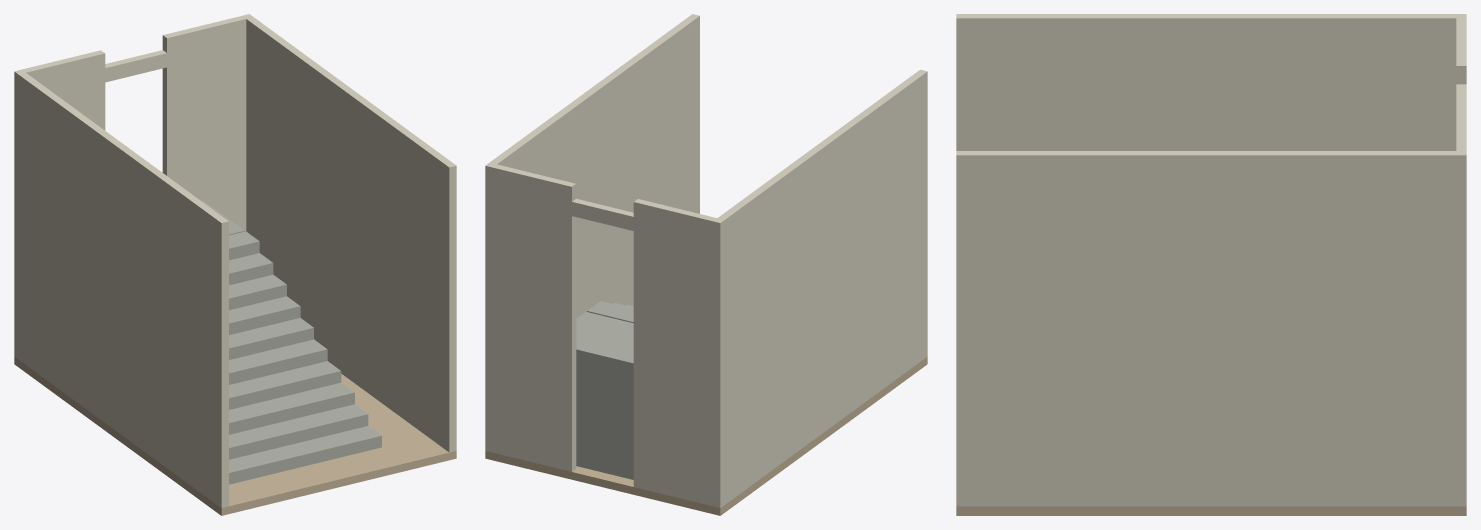
3 renders of one model, left to right at view 1: azimuth 30°, elevation 25°; view 2: azimuth 150°, elevation 25°; view 3: azimuth 270°, elevation 25°, orthographic. The views are drawn at different scales.
Visible parts, largest first — view 1: STW_1, STE_2, STN2_4, GROUND_0, STN_3, T0_8, T1_9, T2_10, T3_11, T4_12, T5_13, T6_14 (+4 smaller); view 2: STW_1, STE_2, STN2_4, STN_3, TOP_18, GROUND_0, ROOFD-lintel_7, ROOFD-j1_5, ROOFD-j2_6, T9_17; view 3: STE_2, STW_1, GROUND_0, STN2_4, STN_3.
Part boxes in pixels (x1,y1,x2,y2): STW_1: [14, 69, 228, 507]; STE_2: [242, 14, 456, 452]; STN2_4: [162, 14, 250, 231]; GROUND_0: [14, 357, 456, 515]; STN_3: [14, 50, 105, 359]; T0_8: [229, 426, 381, 484]; T1_9: [229, 404, 368, 459]; T2_10: [229, 382, 354, 434]; T3_11: [229, 361, 341, 409]; T4_12: [229, 339, 327, 384]; T5_13: [229, 318, 313, 359]; T6_14: [229, 296, 300, 334]; STW_1: [713, 69, 927, 507]; STE_2: [485, 14, 699, 452]; STN2_4: [485, 163, 576, 471]; STN_3: [633, 199, 724, 507]; TOP_18: [576, 311, 633, 479]; GROUND_0: [485, 357, 927, 515]; ROOFD-lintel_7: [572, 198, 633, 230]; ROOFD-j1_5: [633, 222, 638, 370]; ROOFD-j2_6: [567, 205, 576, 352]; T9_17: [587, 301, 633, 323]; STE_2: [956, 151, 1466, 506]; STW_1: [956, 14, 1466, 150]; GROUND_0: [956, 506, 1466, 515]; STN2_4: [1456, 103, 1466, 506]; STN_3: [1456, 14, 1466, 84].
Size of the model in its own units: 3.8 by 4.52 by 5.8.
